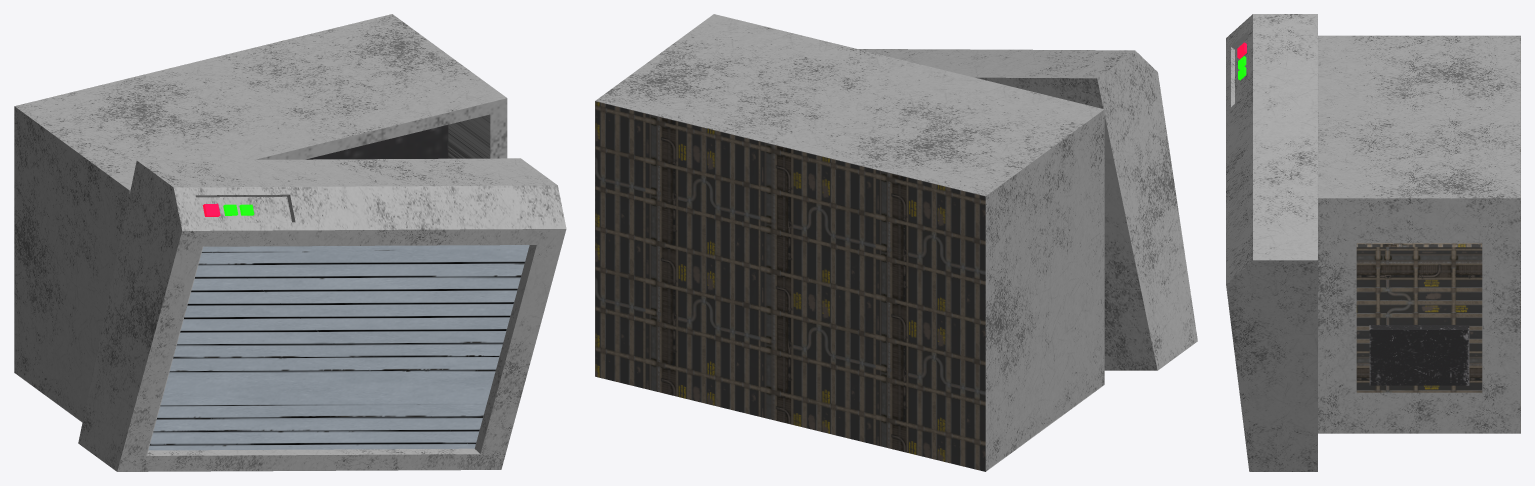
The model's file is ac unit broken.fbx.
3 renders of one model, left to right at view 1: azimuth 30°, elevation 25°; view 2: azimuth 150°, elevation 25°; view 3: azimuth 270°, elevation 25°, orthographic. The views are drawn at different scales.
Parts seen in each view (by area): view 1: Cube.001; view 2: Cube.001; view 3: Cube.001.
Boxes of the visible parts, left/top/right/bottom form: Cube.001: left=14, top=14, right=566, bottom=471; Cube.001: left=595, top=14, right=1197, bottom=471; Cube.001: left=1226, top=14, right=1520, bottom=471.
Bounding box in the file's own units: 452 × 346 × 291.
3 materials, 1 textured.
